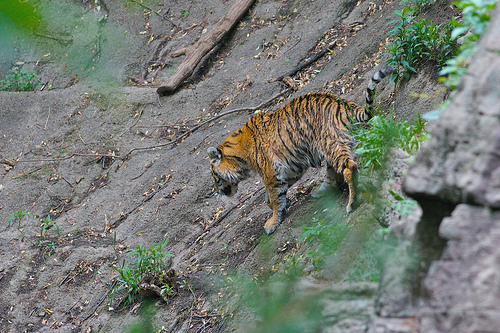Tigre: (201, 110, 410, 212)
